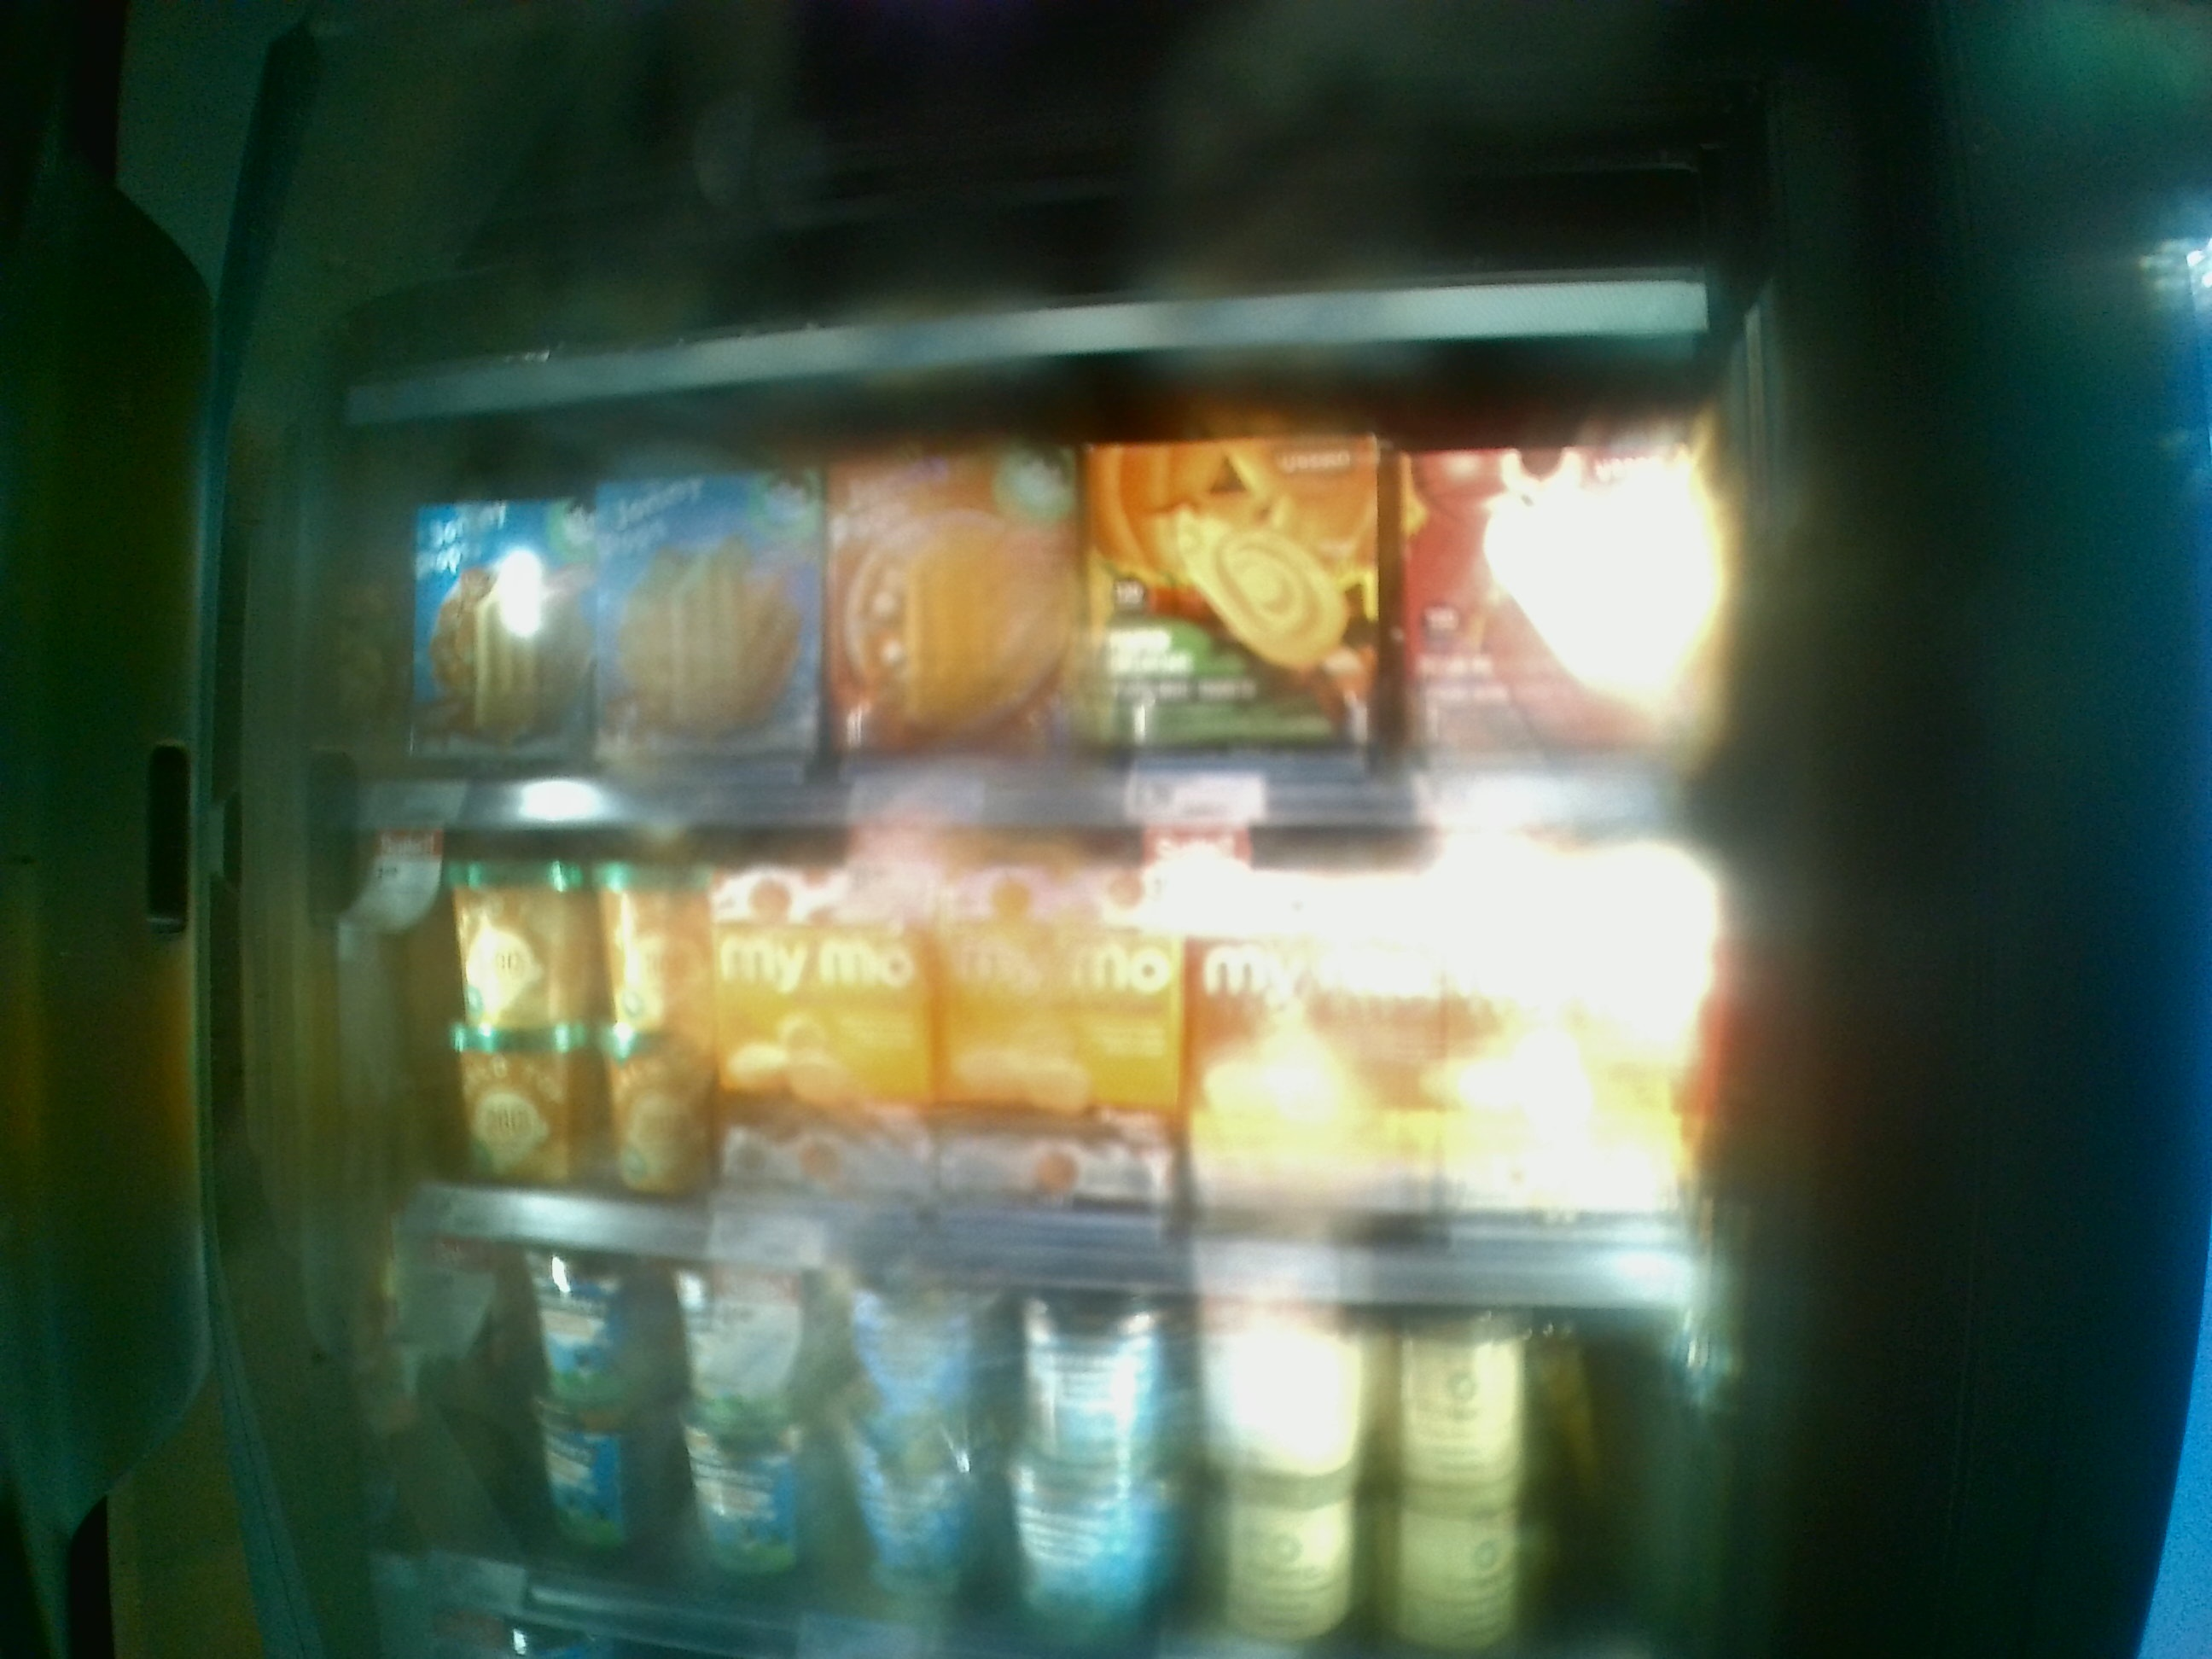shelf: (317, 760, 1721, 1316), (314, 389, 1749, 833)
